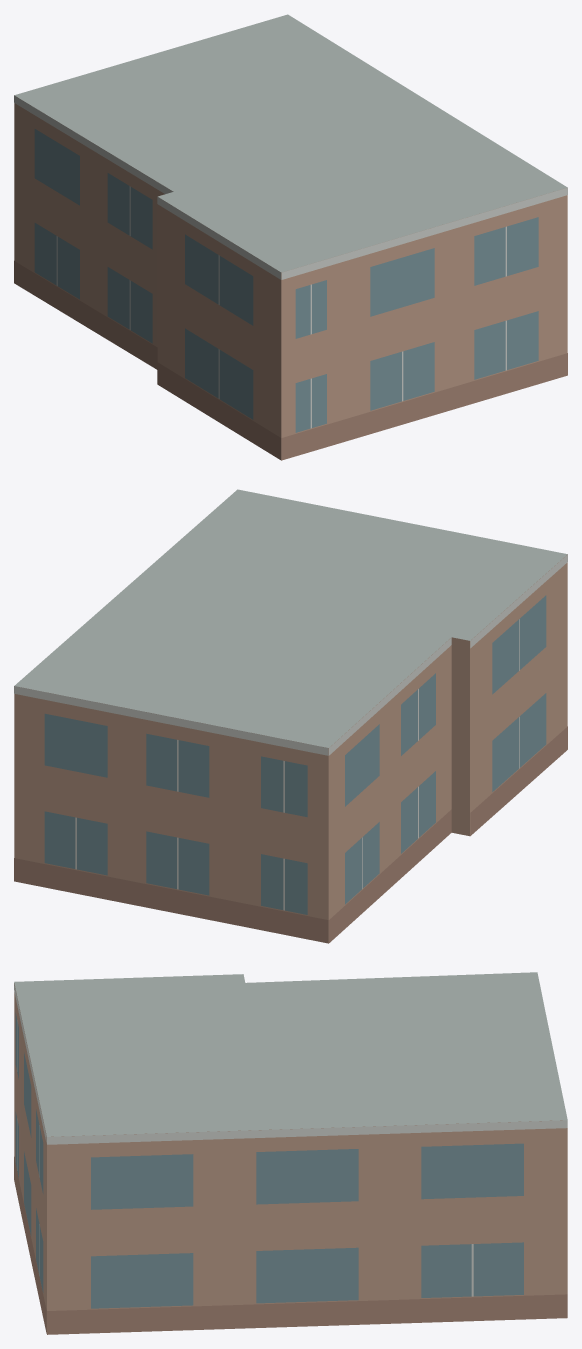
File: survey-upis-32878149.glb
3 renders of one model, top to bottom at view 1: azimuth 30°, elevation 25°; view 2: azimuth 150°, elevation 25°; view 3: azimuth 270°, elevation 25°, orthographic. The views are drawn at different scales.
Parts seen in each view (by area): view 1: survey-upis-32878149.tmp; view 2: survey-upis-32878149.tmp; view 3: survey-upis-32878149.tmp.
Boxes of the visible parts, box(x1,y1,x2,y2) form: survey-upis-32878149.tmp: box(14, 14, 567, 460); survey-upis-32878149.tmp: box(14, 489, 567, 943); survey-upis-32878149.tmp: box(14, 972, 567, 1334).
Size of the model in its own units: 10.91 by 6.1 by 15.48.
